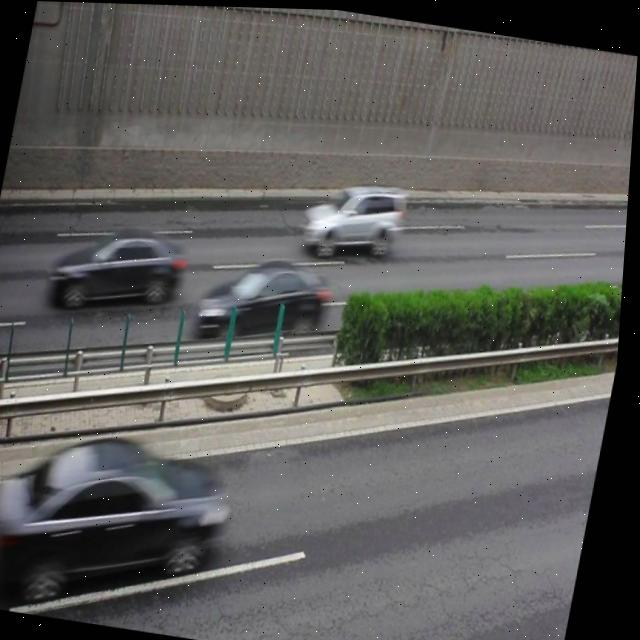car: (0, 420, 244, 626), (194, 246, 340, 351), (50, 217, 189, 322), (300, 174, 410, 265)
